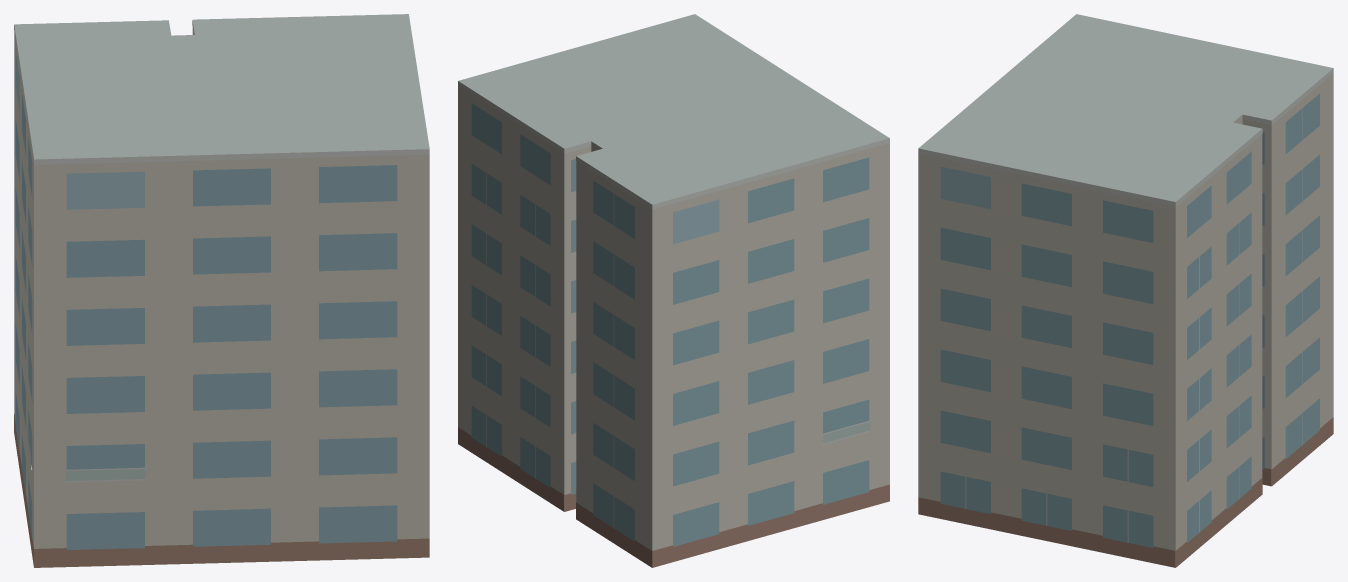
Rendered from survey-upis-32886022.glb.
3 renders of one model, left to right at view 1: azimuth 30°, elevation 25°; view 2: azimuth 150°, elevation 25°; view 3: azimuth 270°, elevation 25°, orthographic. The views are drawn at different scales.
Parts seen in each view (by area): view 1: survey-upis-32886022.tmp; view 2: survey-upis-32886022.tmp; view 3: survey-upis-32886022.tmp.
Part boxes in pixels (x1,y1,x2,y2): survey-upis-32886022.tmp: (14, 14, 429, 567); survey-upis-32886022.tmp: (458, 14, 889, 567); survey-upis-32886022.tmp: (918, 14, 1333, 567).
Bounding box in the file's own units: 20.18 × 18.3 × 18.84.
